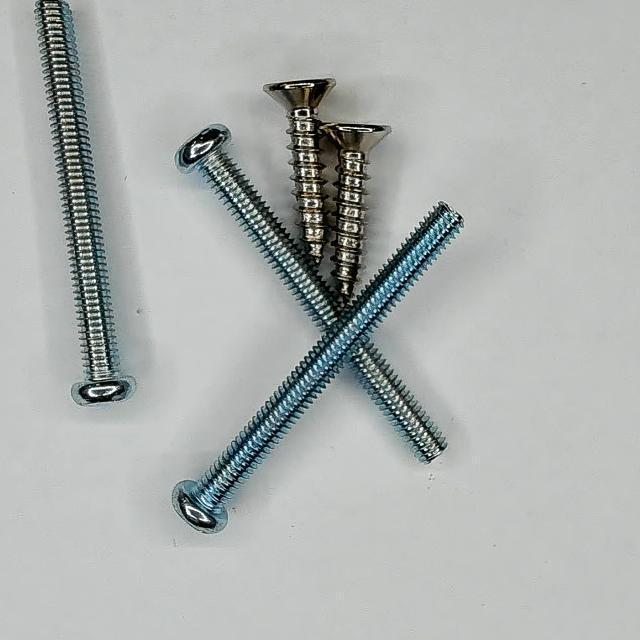Screw: (177, 125, 463, 510), (174, 204, 464, 532), (34, 0, 135, 406), (263, 78, 336, 264), (322, 123, 391, 304)
